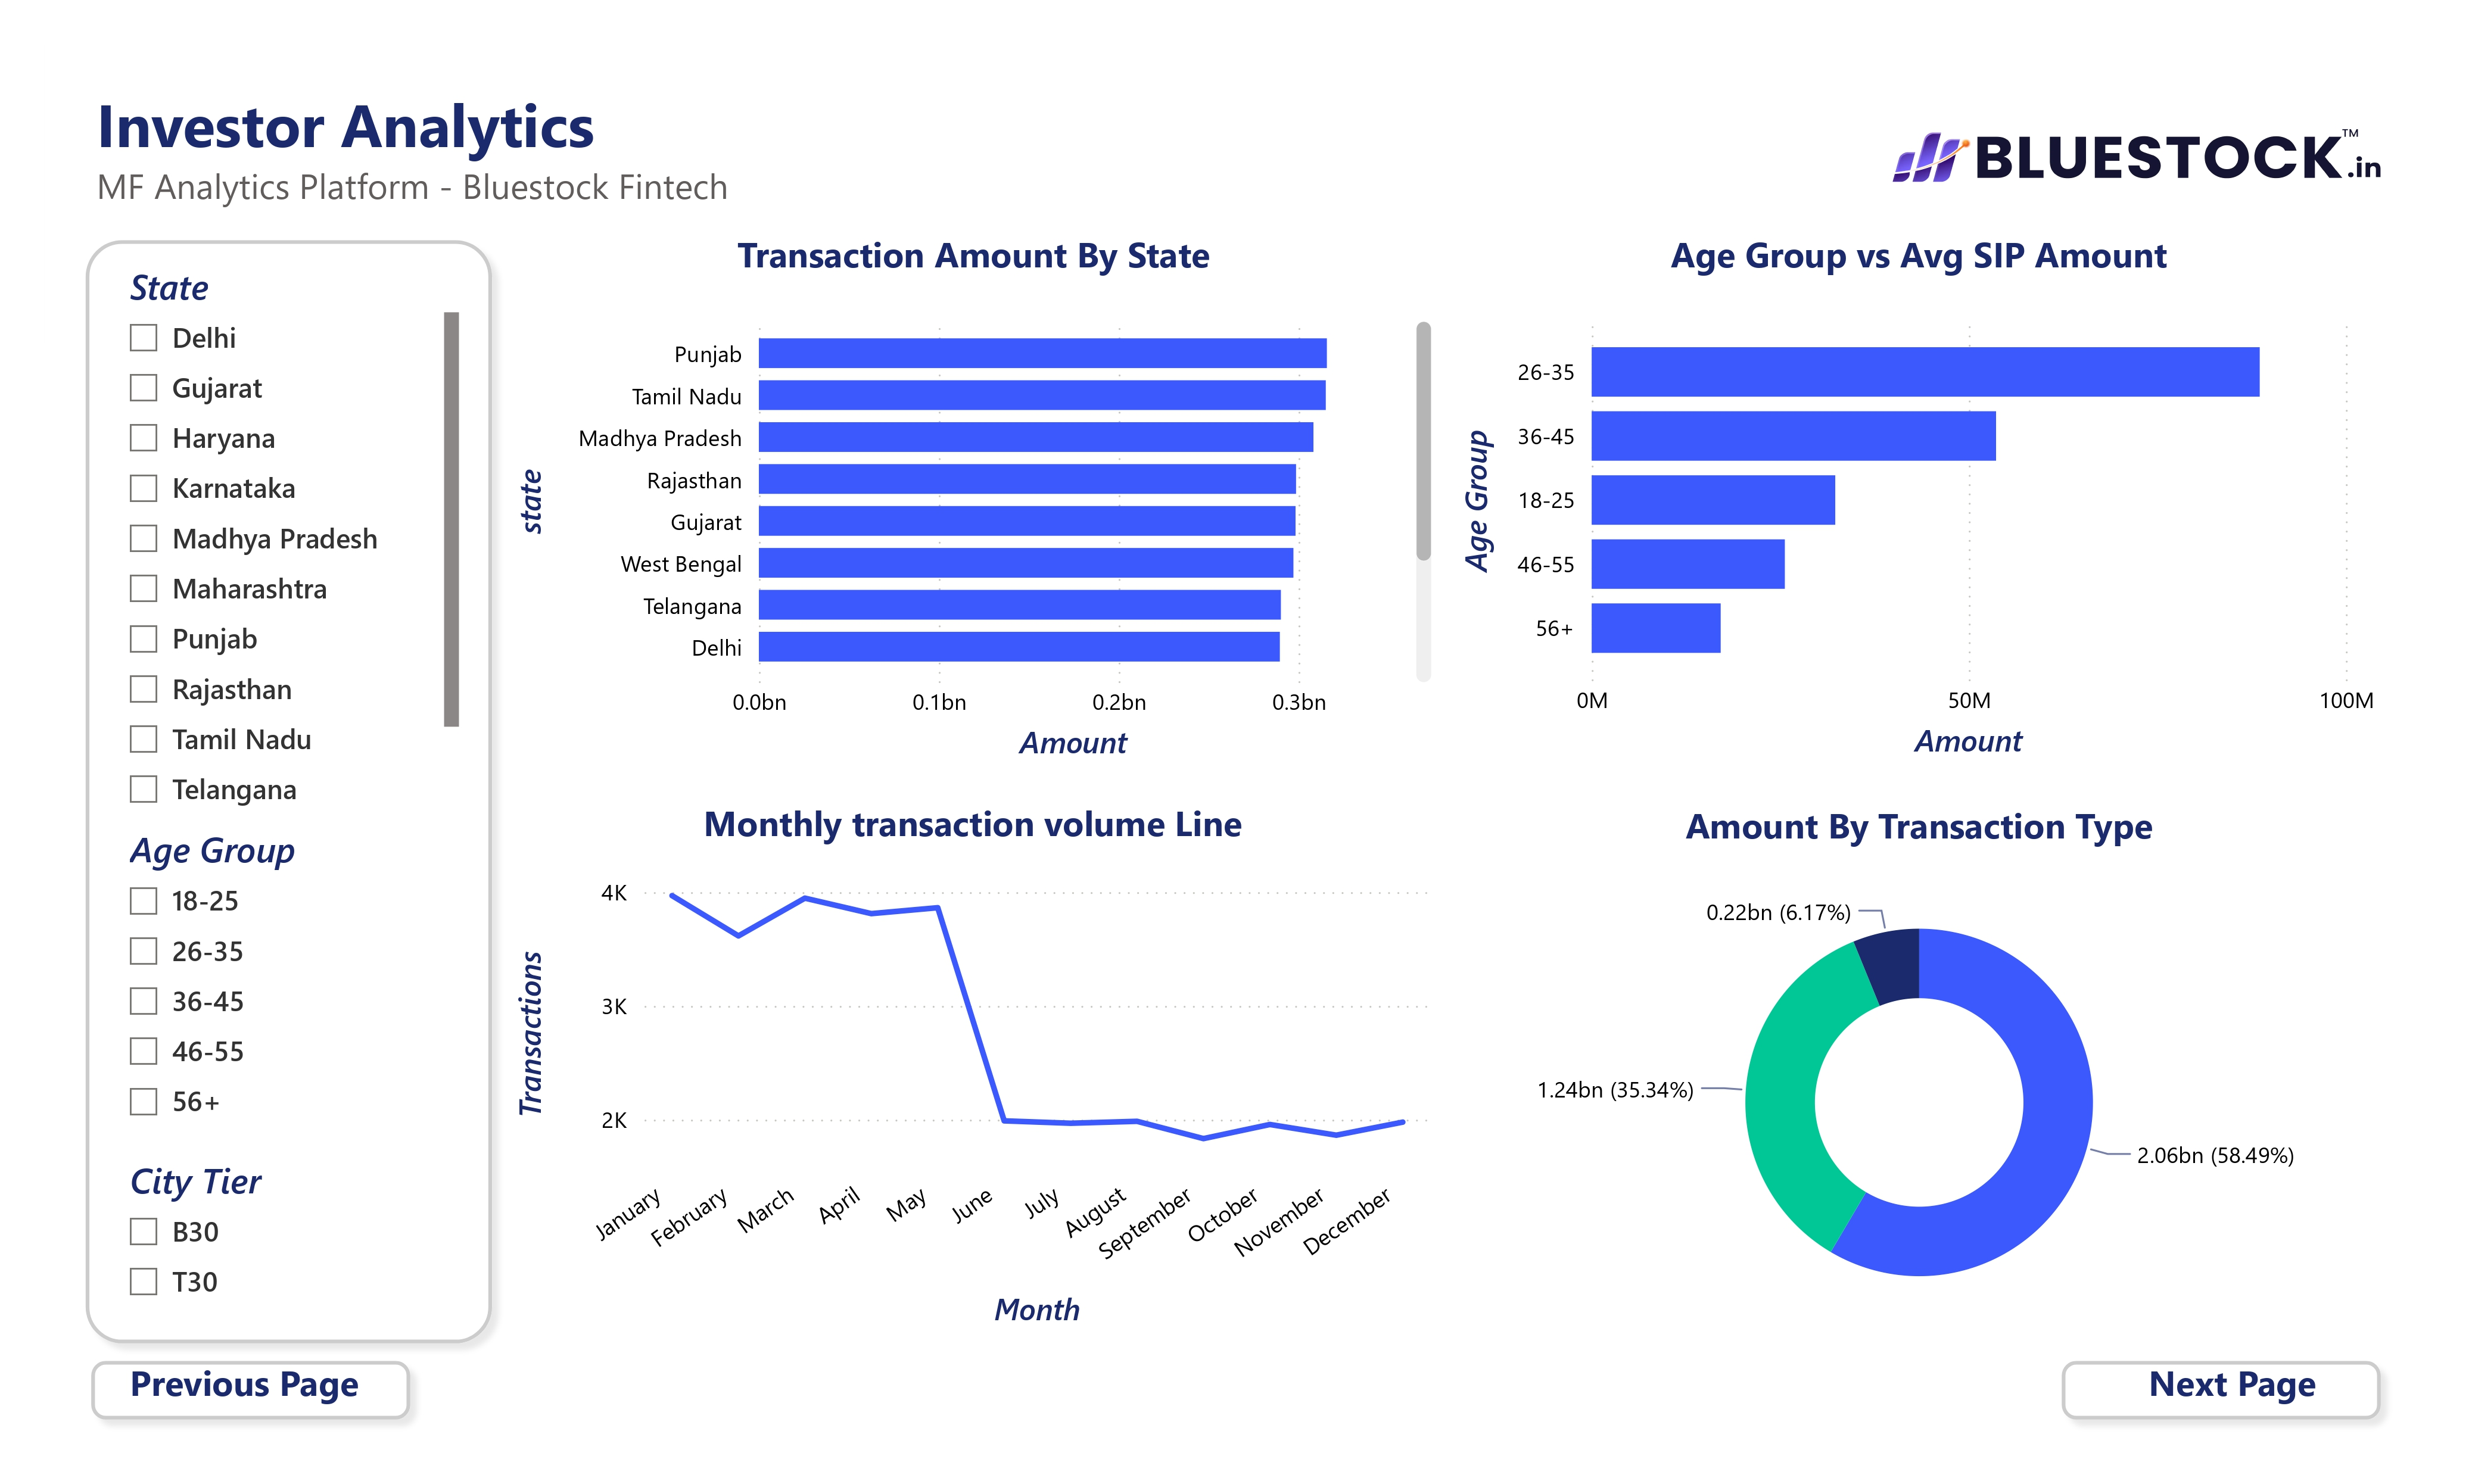

Layout of this report page (visuals, bound fields, positions):
{"tool":"powerbi","page":{"name":"Investor Analytics","canvas":[1280,750],"ordinal":2},"visuals":[{"type":"shape","box":[13.3,96.7,235,610],"z":0},{"type":"clusteredBarChart","title":"Transaction Amount By State","fields":{"Category":["fact_transactions.state"],"Y":["Sum(fact_transactions.amount_inr)"]},"box":[248.3,100.3,501.7,290],"z":1000},{"type":"donutChart","title":"Amount By Transaction Type","fields":{"Category":["fact_transactions.transaction_type"],"Y":["Sum(fact_transactions.amount_inr)"]},"box":[756.7,406.7,501.7,288.3],"z":2000},{"type":"clusteredBarChart","title":"Age Group vs Avg SIP Amount","fields":{"Category":["fact_transactions.age_group"],"Y":["Sum(fact_transactions.amount_inr)"]},"box":[756.7,100.3,501,289],"z":3000},{"type":"lineChart","title":"Monthly transaction volume Line","fields":{"Category":["dim_date.full_date.Variation.Date Hierarchy.Month"],"Y":["CountNonNull(fact_transactions.transaction_id)"]},"box":[248.3,406.1,501,289],"z":4000},{"type":"slicer","fields":{"Values":["fact_transactions.city_tier"]},"box":[31.7,593.3,195,100],"z":5000},{"type":"slicer","fields":{"Values":["fact_transactions.state"]},"box":[31.7,111.7,195,306.7],"z":6000},{"type":"slicer","fields":{"Values":["fact_transactions.age_group"]},"box":[31.7,415,195,181.7],"z":7000},{"type":"image","box":[991.7,7.2,266.7,105],"z":8000},{"type":"textbox","box":[21.7,15,371.7,97],"z":9000},{"type":"shape","box":[16,700,188,48],"z":10000},{"type":"shape","box":[1076,700,188,48],"z":11000},{"type":"textbox","box":[40,702,154,42],"z":12000},{"type":"textbox","box":[1126,702,122,48],"z":13000},{"type":"actionButton","box":[22,707,172,37],"z":14000},{"type":"actionButton","box":[1099,707,142,29],"z":15000}]}

Visuals, with their boxes on the page's 1280x750 design canvas (x1, y1, x2, y2). These are canvas units, not pixel positions in the 2472x1484 screenshot, which may show the page scaled, cropped or inside an application window:
shape: region(13, 97, 248, 707)
"Transaction Amount By State" clusteredBarChart: region(248, 100, 750, 390)
"Amount By Transaction Type" donutChart: region(757, 407, 1258, 695)
"Age Group vs Avg SIP Amount" clusteredBarChart: region(757, 100, 1258, 389)
"Monthly transaction volume Line" lineChart: region(248, 406, 749, 695)
slicer - fact_transactions.city_tier: region(32, 593, 227, 693)
slicer - fact_transactions.state: region(32, 112, 227, 418)
slicer - fact_transactions.age_group: region(32, 415, 227, 597)
image: region(992, 7, 1258, 112)
textbox: region(22, 15, 393, 112)
shape: region(16, 700, 204, 748)
shape: region(1076, 700, 1264, 748)
textbox: region(40, 702, 194, 744)
textbox: region(1126, 702, 1248, 750)
actionButton: region(22, 707, 194, 744)
actionButton: region(1099, 707, 1241, 736)
